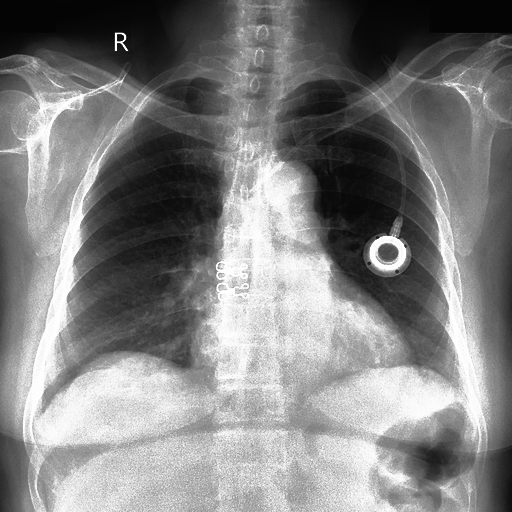Consolidation: (265, 159, 326, 229)
Nodule/Mass: (189, 309, 419, 384)
